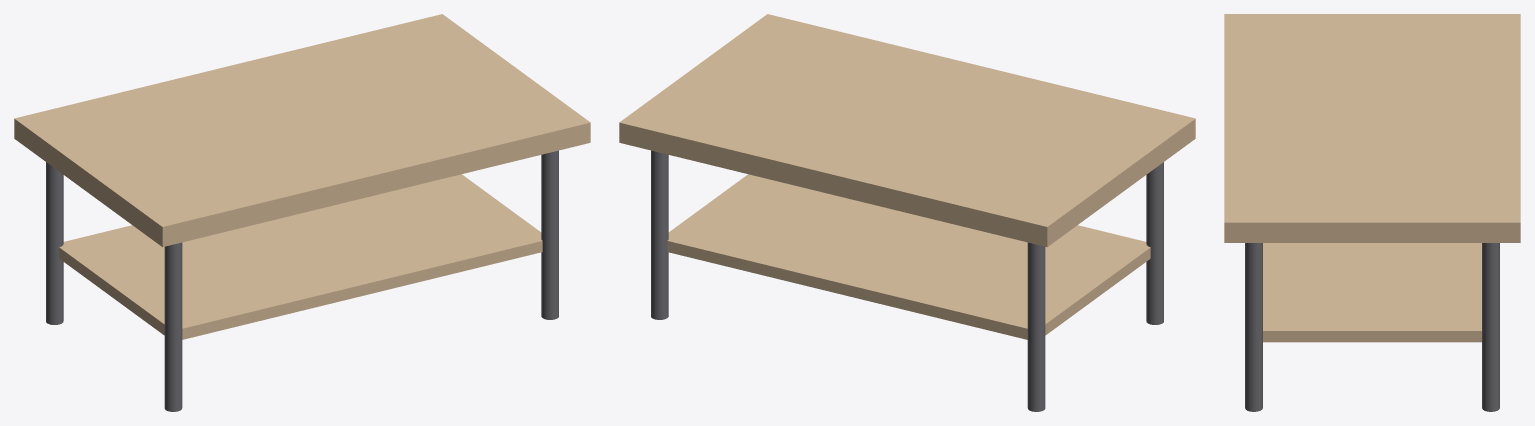
File: COFFEE001.glb
3 views of the same model, side by side, from view 1: azimuth 30°, elevation 25°; view 2: azimuth 150°, elevation 25°; view 3: azimuth 270°, elevation 25° (orthographic).
Parts seen in each view (by area): view 1: FurnitureRoot; view 2: FurnitureRoot; view 3: FurnitureRoot.
Boxes of the visible parts, x1,y1,x2,y2 form: FurnitureRoot: [14, 14, 590, 411]; FurnitureRoot: [619, 14, 1195, 411]; FurnitureRoot: [1224, 14, 1520, 411].
Bounding box in the file's own units: 100 × 44.25 × 60.
